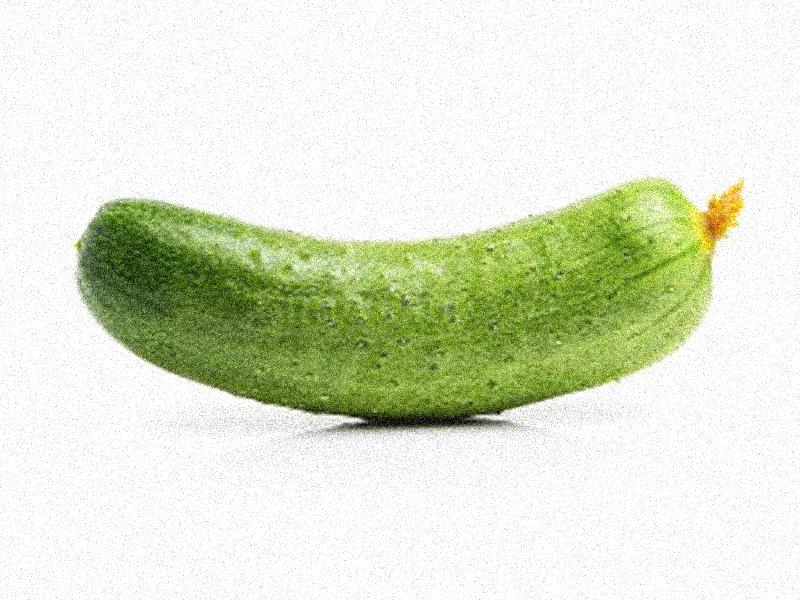Cucumber: (73, 174, 750, 423)
